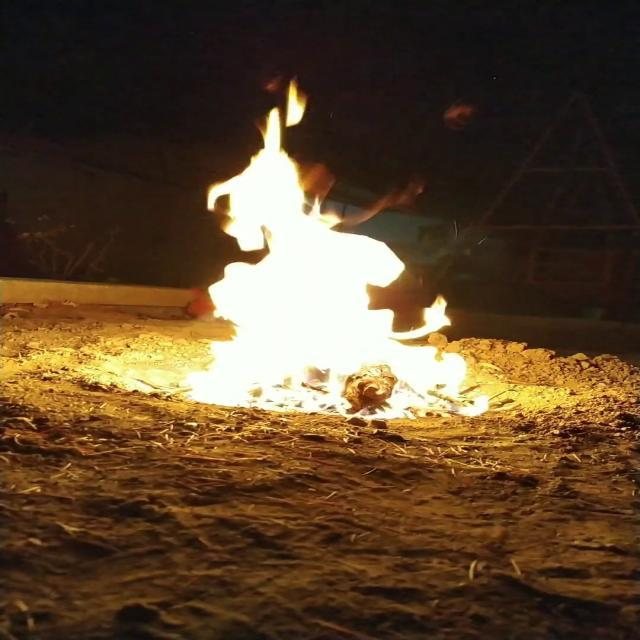Fire: (158, 68, 492, 419)
